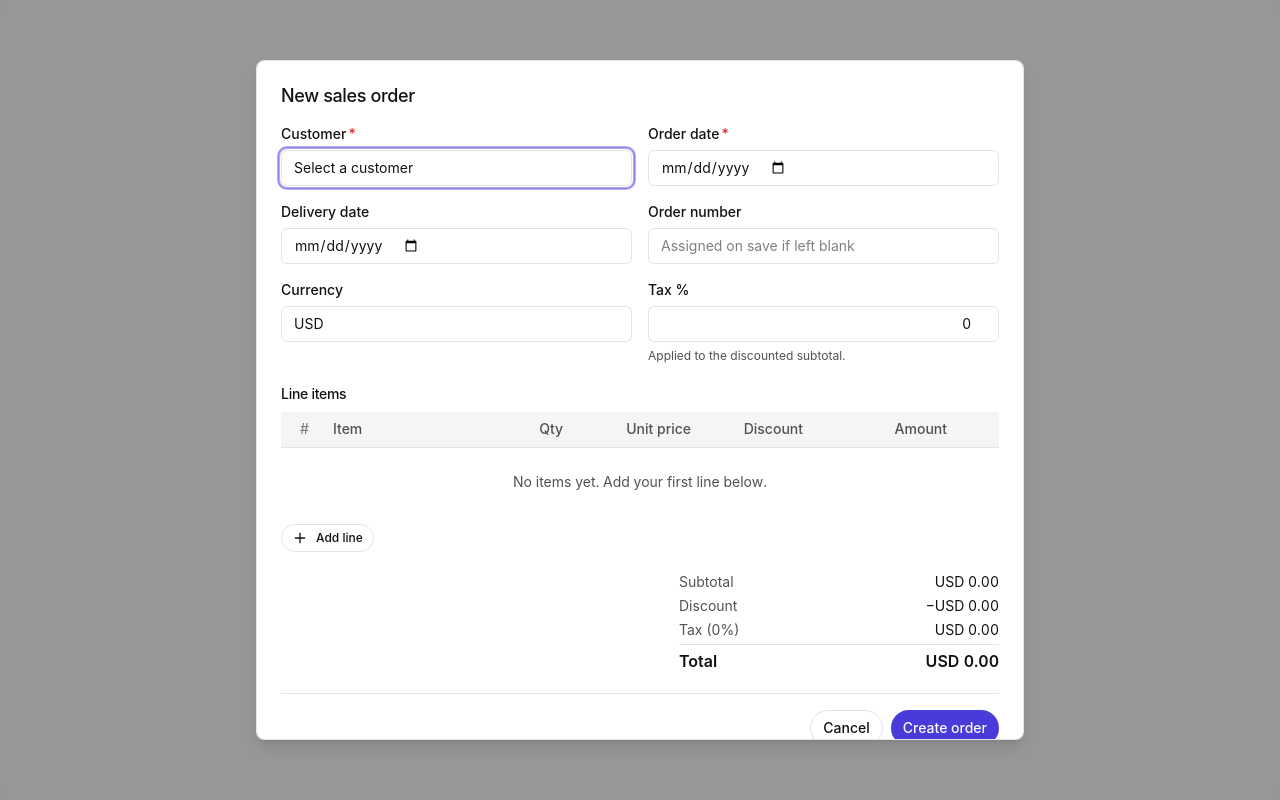
Test case: DocumentDialog › blocks submission and shows inline errors when required fields and lines are missing
Click the button "Create order". click: (945, 728)
box: [891, 710, 999, 746]
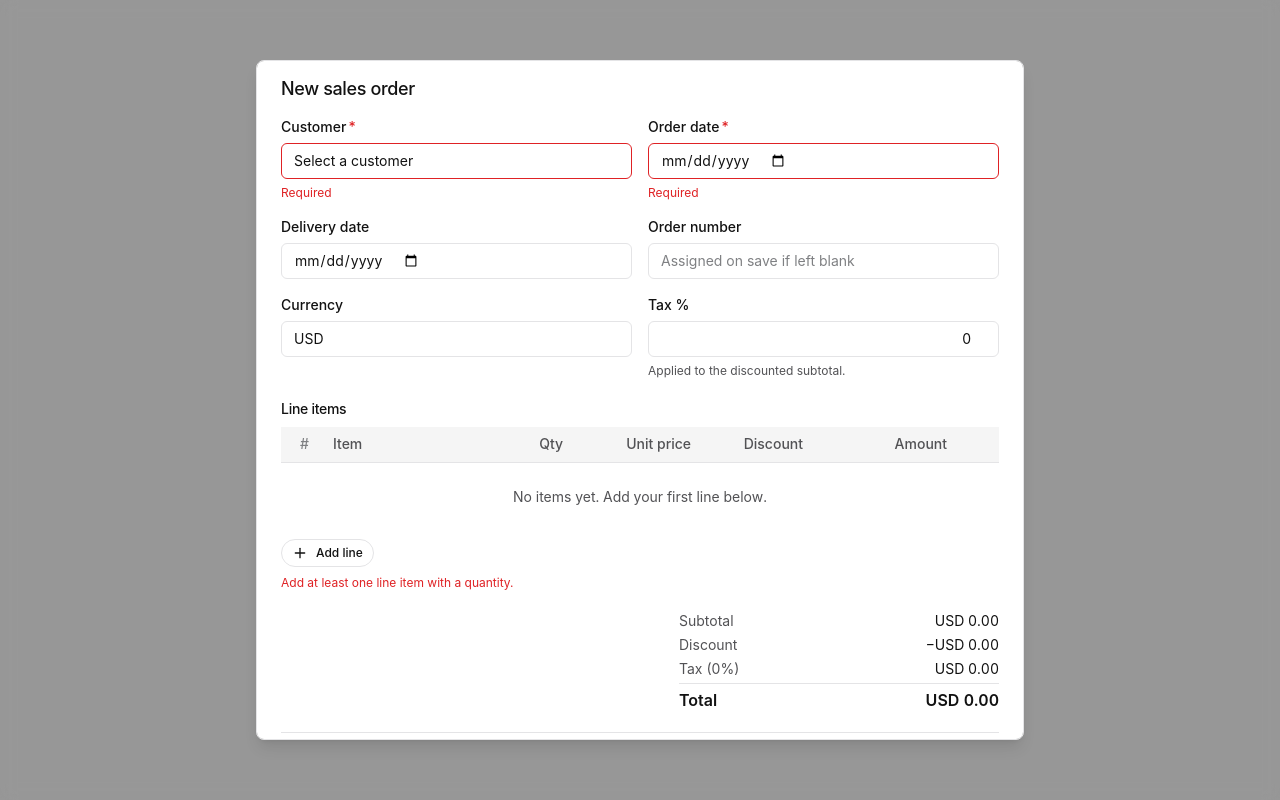
Result: the text "Add at least one line item with a quantity." is shown at [281, 575, 514, 590]
